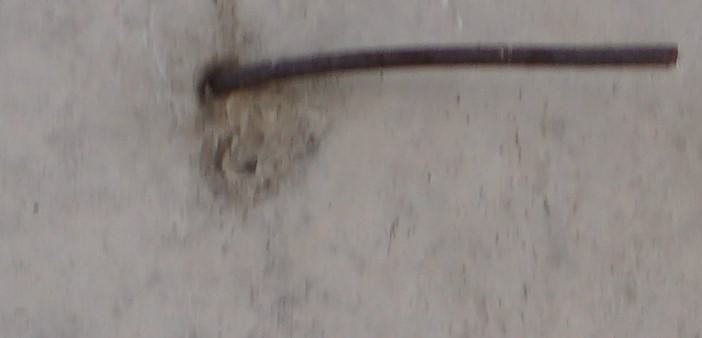Exposed reinforcement: (208, 40, 679, 100)
Spalling: (197, 116, 338, 209)
